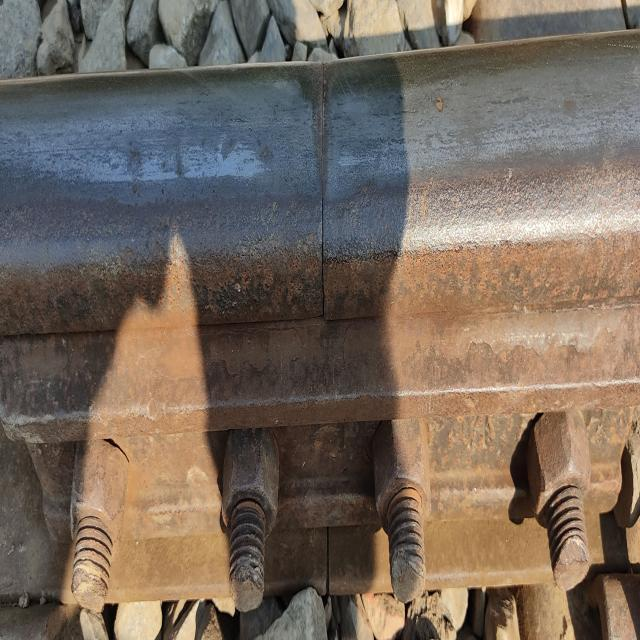Good Joint: (0, 305, 640, 611)
